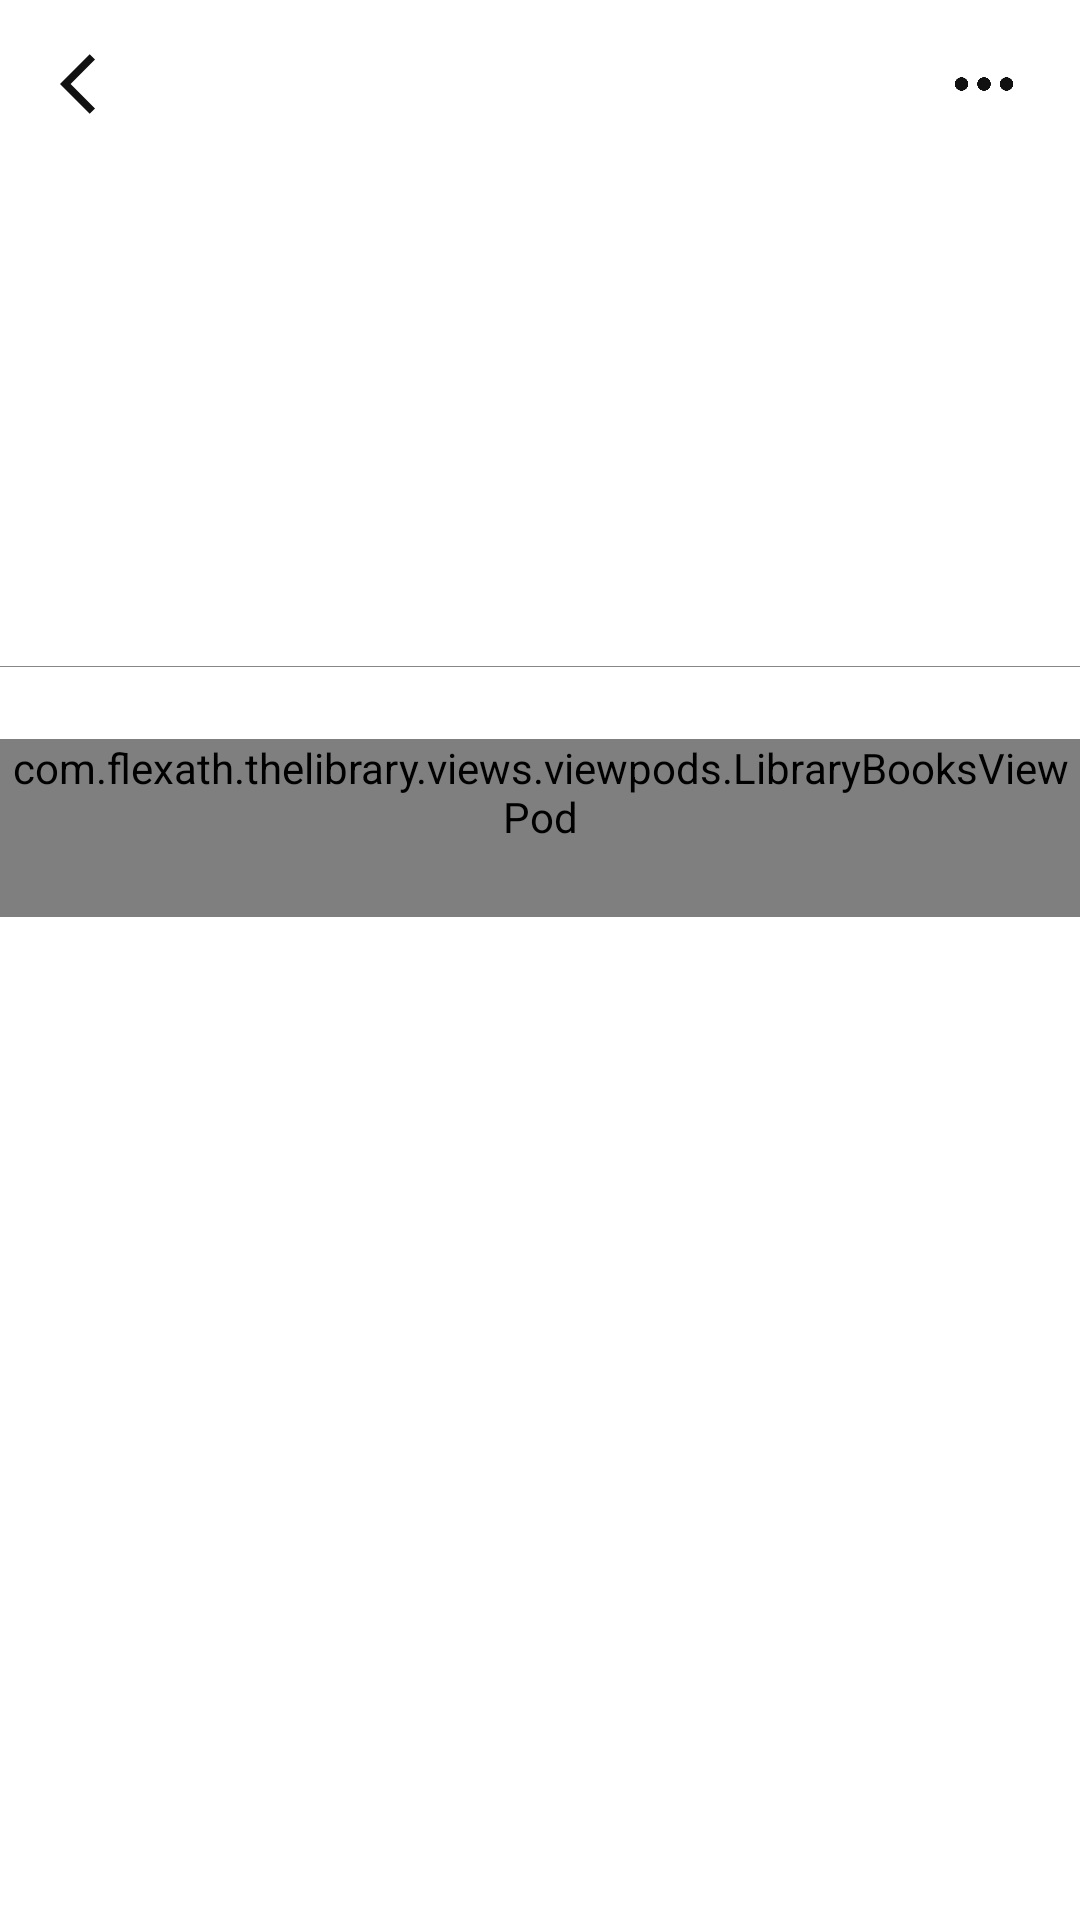

Where icons sit on this 1080px×1920px app screen, as [x1=x1, y1=y1, x2=x2, y2=y2]:
arrow back secondary: [x1=60, y1=54, x2=95, y2=114]
dots secondary: [x1=955, y1=77, x2=1013, y2=91]
